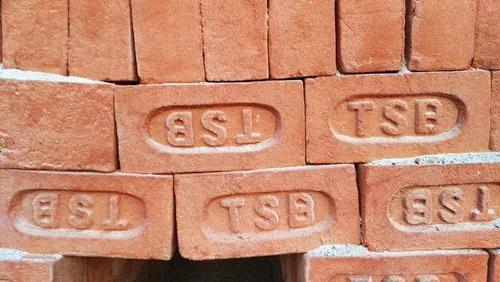brick: (174, 164, 360, 259), (308, 67, 490, 164), (115, 78, 305, 170), (1, 176, 172, 258), (370, 164, 498, 253), (1, 78, 114, 170), (131, 0, 202, 80), (201, 0, 266, 82), (67, 1, 132, 78), (269, 0, 332, 78), (2, 1, 67, 74), (341, 0, 403, 74), (412, 0, 475, 69)
